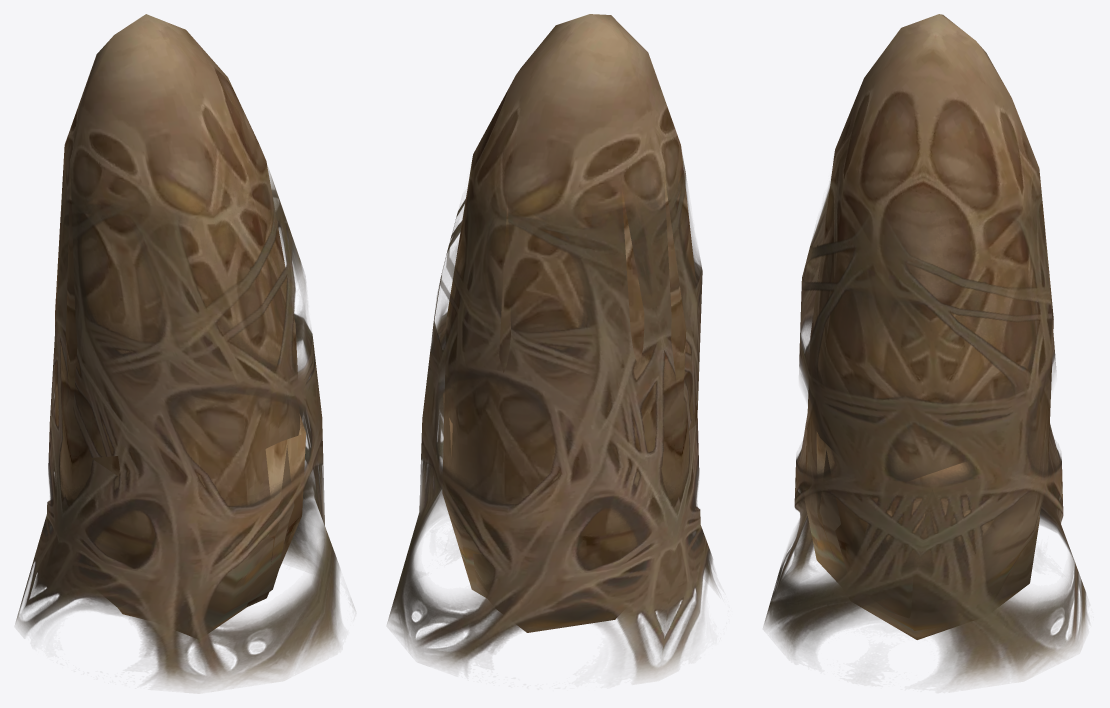
3 renders of one model, left to right at view 1: azimuth 30°, elevation 25°; view 2: azimuth 150°, elevation 25°; view 3: azimuth 270°, elevation 25°, orthographic. The views are drawn at different scales.
Size of the model in its own units: 0.6282 by 1.24 by 0.6282.
Materials: 3 (3 with a texture image).
